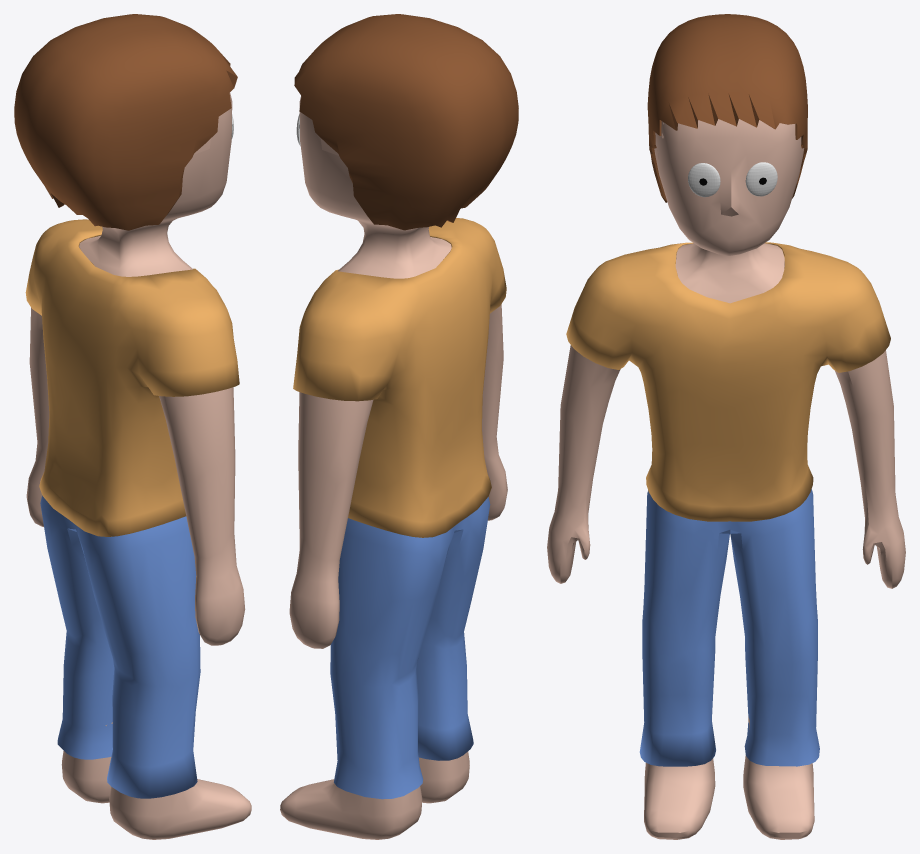
Rendered from SkyBoundCharacter_HEHEHA.fbx.
3 renders of one model, left to right at view 1: azimuth 30°, elevation 25°; view 2: azimuth 150°, elevation 25°; view 3: azimuth 270°, elevation 25°, orthographic. The views are drawn at different scales.
Parts seen in each view (by area): view 1: Shirt_Cube.004; view 2: Shirt_Cube.004; view 3: Shirt_Cube.004.
Boxes of the visible parts, x1,y1,x2,y2 form: Shirt_Cube.004: (14, 14, 251, 839); Shirt_Cube.004: (280, 14, 518, 839); Shirt_Cube.004: (547, 14, 905, 839).
Size of the model in its own units: 223 by 855 by 361.
